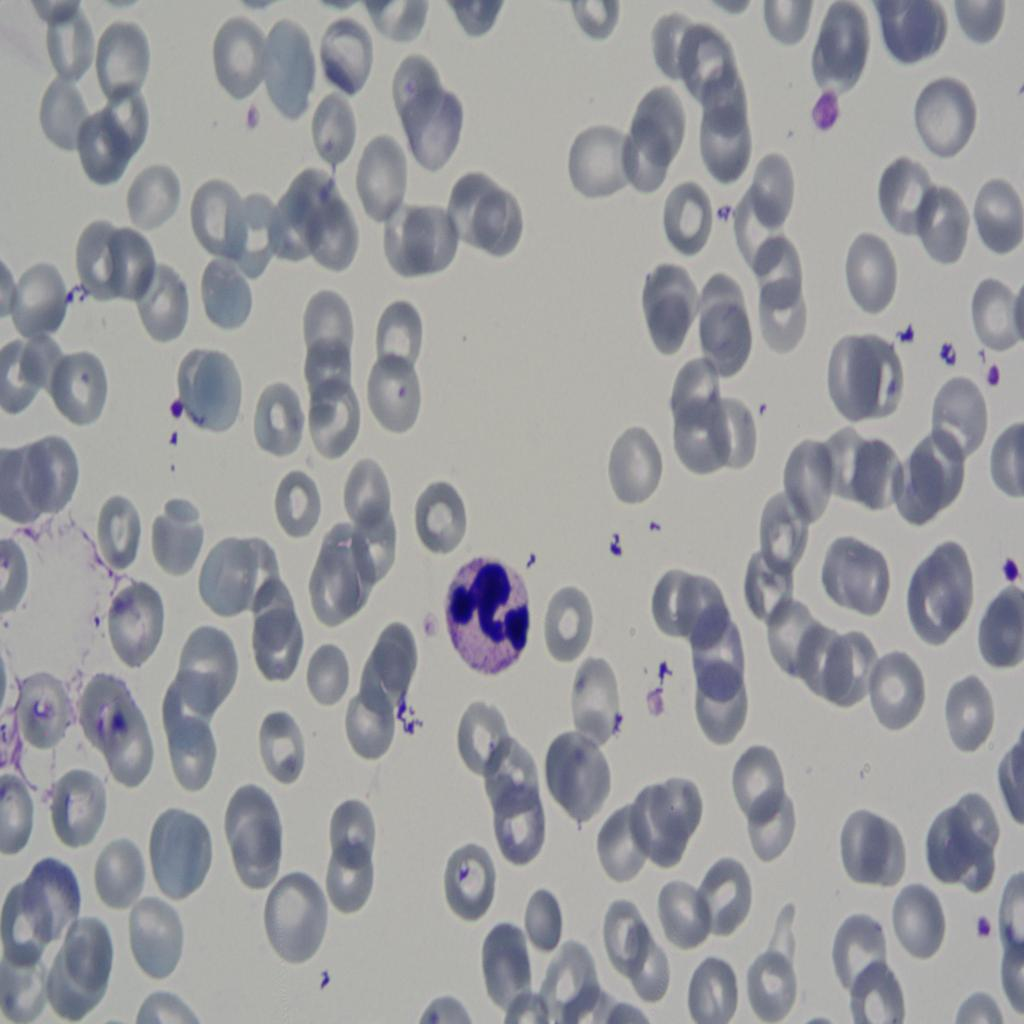Neutrofil: (446, 549, 543, 684)
Platelet: (808, 87, 848, 137), (984, 346, 1011, 406), (992, 550, 1024, 592), (936, 334, 964, 378), (166, 392, 193, 432), (971, 908, 998, 946), (898, 317, 914, 357)
